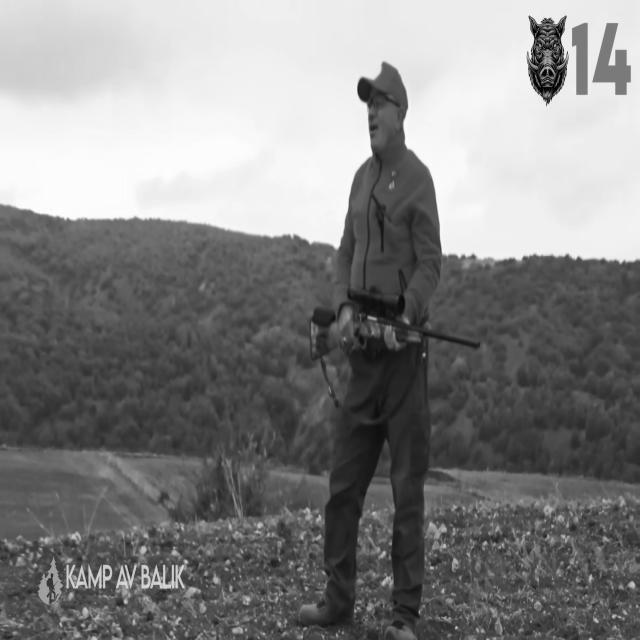boar: (526, 15, 568, 104)
monkey: (299, 62, 441, 638)
